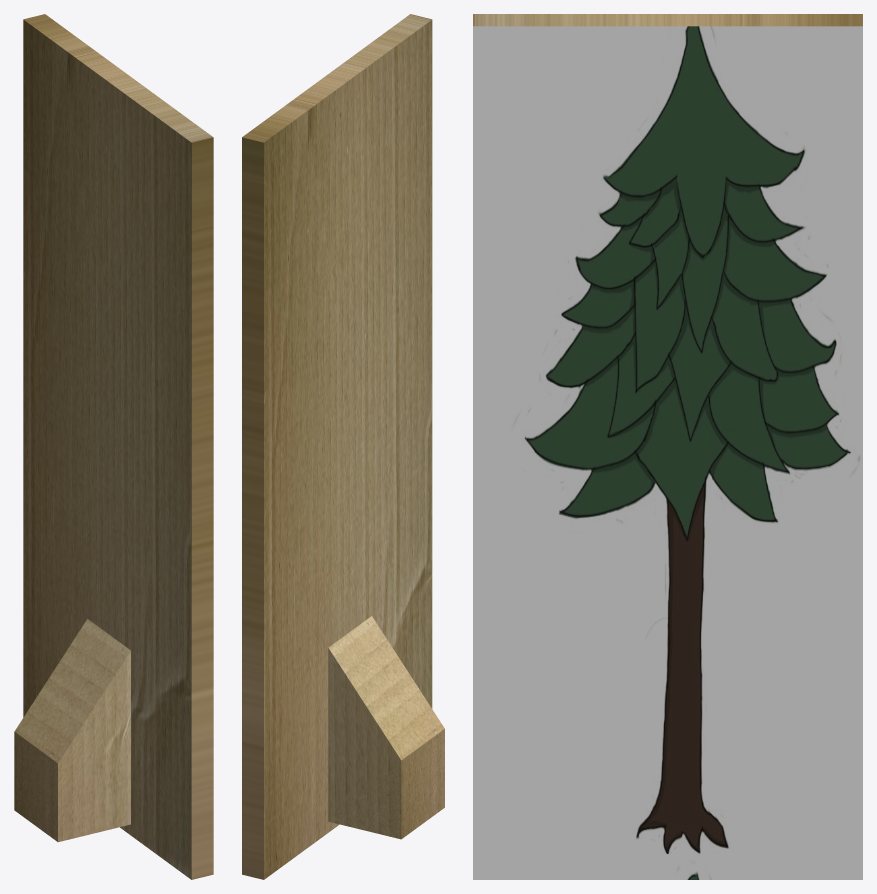
File: Cutout-cardboard-tree (1).fbx
3 renders of one model, left to right at view 1: azimuth 30°, elevation 25°; view 2: azimuth 150°, elevation 25°; view 3: azimuth 270°, elevation 25°, orthographic. The views are drawn at different scales.
Parts seen in each view (by area): view 1: pCube3; view 2: pCube3; view 3: pCube3.
Part boxes in pixels (bbox=[...]): pCube3: bbox=[14, 14, 213, 879]; pCube3: bbox=[242, 14, 444, 879]; pCube3: bbox=[473, 14, 862, 879].
Bounding box in the file's own units: 1.26 × 9.34 × 3.87.
